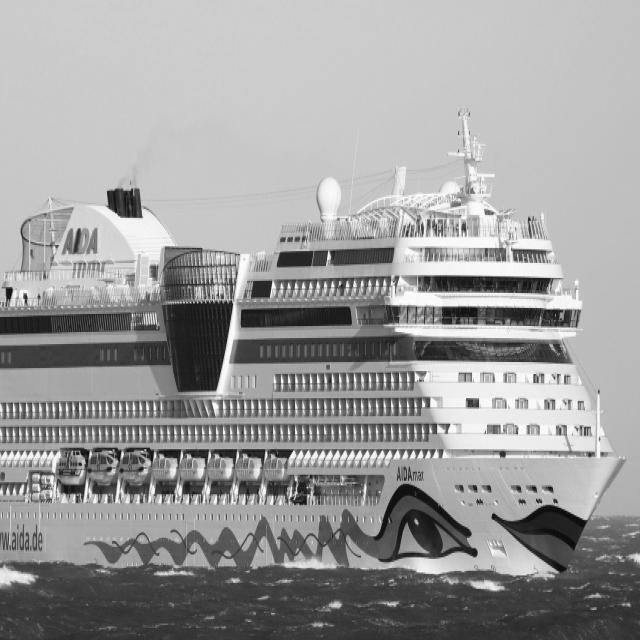cruises: (1, 99, 633, 590)
